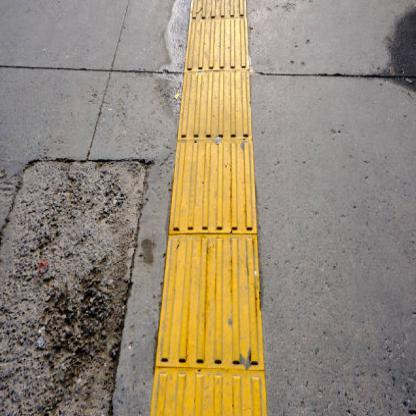podotacti: (151, 0, 267, 414)
